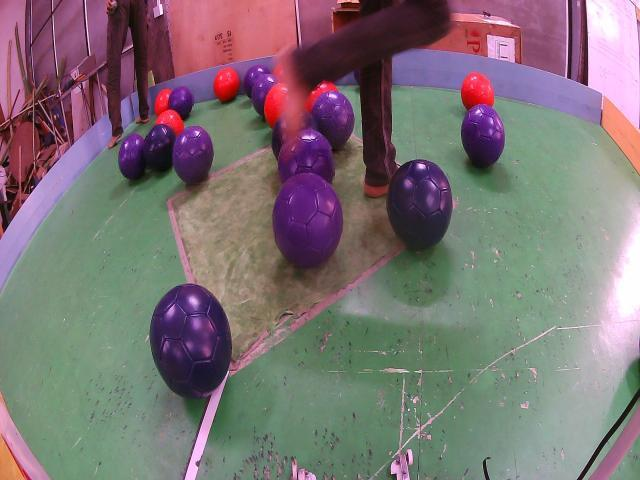jambhalya: (273, 174, 344, 268), (279, 130, 334, 183), (461, 105, 505, 166), (311, 92, 355, 149), (173, 127, 214, 184), (118, 134, 147, 178), (251, 75, 280, 117), (243, 65, 270, 98), (168, 85, 193, 120)
kaalyya: (150, 284, 231, 398), (386, 160, 454, 248), (144, 123, 176, 172)
